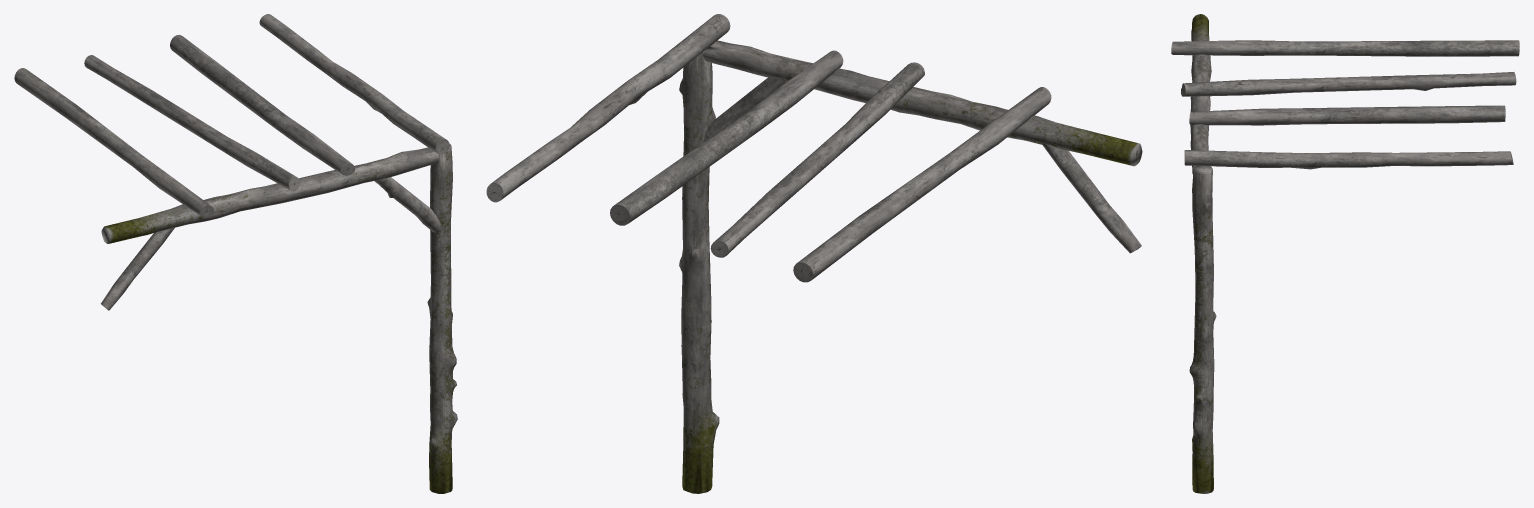
The model's file is SM_SupportModule_7.fbx.
3 renders of one model, left to right at view 1: azimuth 30°, elevation 25°; view 2: azimuth 150°, elevation 25°; view 3: azimuth 270°, elevation 25°, orthographic. The views are drawn at different scales.
Visible parts, largest first — view 1: SM_SupportModule_7_LOD0; view 2: SM_SupportModule_7_LOD0; view 3: SM_SupportModule_7_LOD0.
Part boxes in pixels (left/top/right/bottom): SM_SupportModule_7_LOD0: left=14, top=14, right=457, bottom=493; SM_SupportModule_7_LOD0: left=486, top=14, right=1142, bottom=493; SM_SupportModule_7_LOD0: left=1171, top=14, right=1519, bottom=493.
Size of the model in its own units: 312 by 284 by 303.
